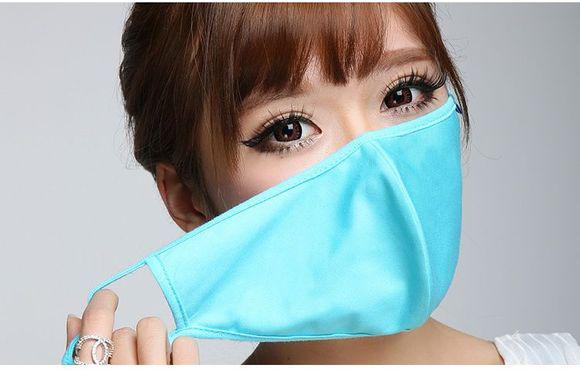WRONG: (190, 48, 460, 310)
